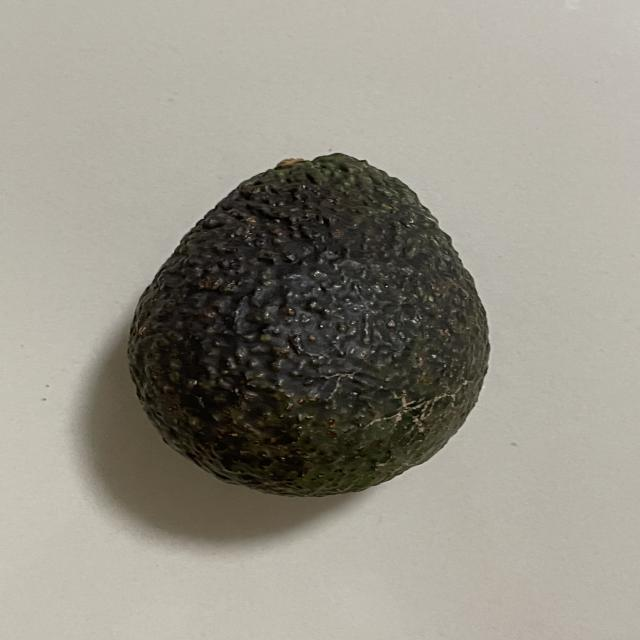avocado: (108, 141, 517, 510)
